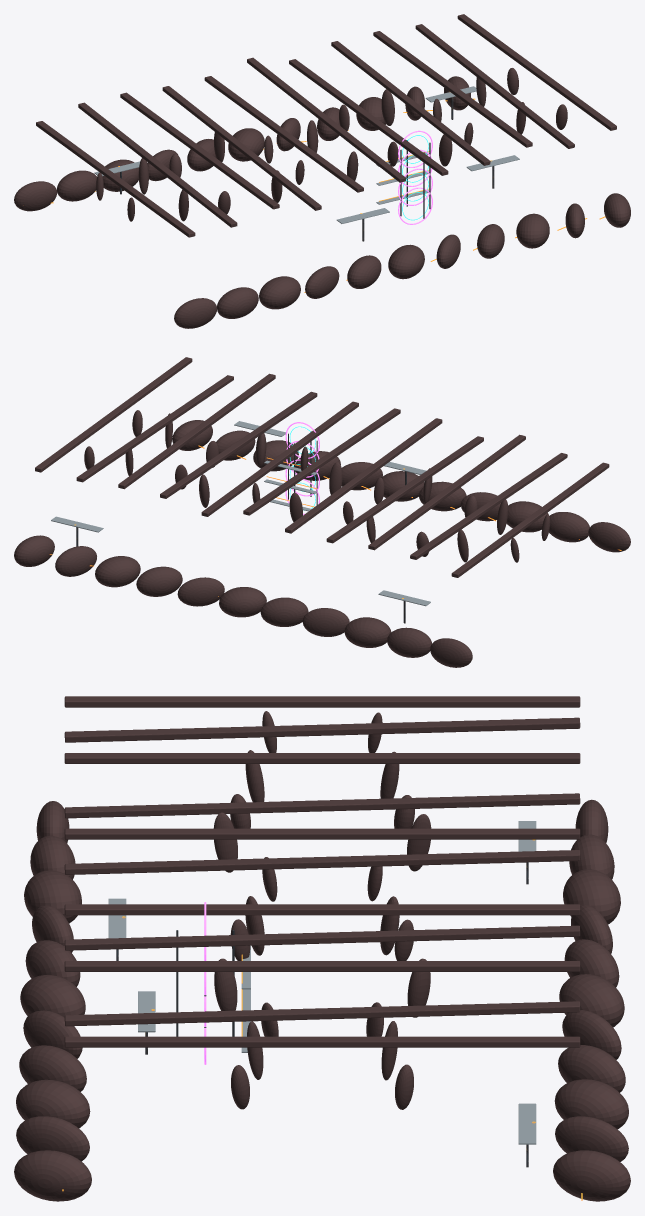
Rendered from resonance_cavern_shell.glb.
The picture shows the model from 3 angles, top to bottom: view 1: azimuth 30°, elevation 25°; view 2: azimuth 150°, elevation 25°; view 3: azimuth 270°, elevation 25°; orthographic projection. The views are drawn at different scales.
Parts seen in each view (by area): view 1: CavernRoof/Rib_3, CavernRoof/Rib_1, CavernRoof/Rib_9, CavernRoof/Rib_7, CavernRoof/Rib_5, CavernRoof/Rib_2, CavernRoof/Rib_0, CavernRoof/Rib_8, CavernRoof/Rib_4, CavernRoof/Rib_6, CavernRoof/Rib_10, CavernWall/1/2 (+19 smaller); view 2: CavernRoof/Rib_0, CavernRoof/Rib_8, CavernRoof/Rib_2, CavernRoof/Rib_4, CavernRoof/Rib_10, CavernRoof/Rib_6, CavernRoof/Rib_5, CavernRoof/Rib_9, CavernRoof/Rib_3, CavernRoof/Rib_7, CavernRoof/Rib_1, CavernWall/-1/5 (+21 smaller); view 3: CavernRoof/Rib_0, CavernRoof/Rib_4, CavernRoof/Rib_10, CavernRoof/Rib_6, CavernRoof/Rib_7, CavernRoof/Rib_9, CavernRoof/Rib_5, CavernRoof/Rib_1, CavernRoof/Rib_3, CavernRoof/Rib_2, CavernRoof/Rib_8, CavernWall/1/10 (+25 smaller).
Part boxes in pixels (bbox=[...]): CavernRoof/Rib_3: bbox=[162, 86, 321, 210]; CavernRoof/Rib_1: bbox=[78, 102, 237, 227]; CavernRoof/Rib_9: bbox=[415, 24, 574, 148]; CavernRoof/Rib_7: bbox=[331, 41, 490, 165]; CavernRoof/Rib_5: bbox=[247, 57, 405, 182]; CavernRoof/Rib_2: bbox=[120, 92, 279, 209]; CavernRoof/Rib_0: bbox=[36, 121, 195, 237]; CavernRoof/Rib_8: bbox=[373, 31, 532, 147]; CavernRoof/Rib_4: bbox=[204, 76, 363, 192]; CavernRoof/Rib_6: bbox=[289, 59, 448, 175]; CavernRoof/Rib_10: bbox=[457, 14, 616, 130]; CavernWall/1/2: bbox=[259, 276, 300, 309]; CavernRoof/Rib_0: bbox=[451, 462, 609, 577]; CavernRoof/Rib_8: bbox=[118, 373, 275, 489]; CavernRoof/Rib_2: bbox=[368, 434, 525, 550]; CavernRoof/Rib_4: bbox=[285, 418, 442, 533]; CavernRoof/Rib_10: bbox=[35, 357, 192, 472]; CavernRoof/Rib_6: bbox=[201, 401, 358, 516]; CavernRoof/Rib_5: bbox=[243, 408, 400, 515]; CavernRoof/Rib_9: bbox=[76, 375, 233, 482]; CavernRoof/Rib_3: bbox=[326, 436, 483, 543]; CavernRoof/Rib_7: bbox=[160, 391, 317, 498]; CavernRoof/Rib_1: bbox=[410, 453, 567, 559]; CavernWall/-1/5: bbox=[219, 587, 266, 617]; CavernRoof/Rib_0: bbox=[64, 696, 580, 707]; CavernRoof/Rib_4: bbox=[64, 828, 580, 839]; CavernRoof/Rib_10: bbox=[64, 1036, 580, 1047]; CavernRoof/Rib_6: bbox=[64, 904, 580, 915]; CavernRoof/Rib_7: bbox=[64, 925, 580, 950]; CavernRoof/Rib_9: bbox=[64, 1001, 580, 1026]; CavernRoof/Rib_5: bbox=[64, 850, 580, 874]; CavernRoof/Rib_1: bbox=[64, 717, 580, 742]; CavernRoof/Rib_3: bbox=[64, 793, 580, 818]; CavernRoof/Rib_2: bbox=[64, 753, 580, 763]; CavernRoof/Rib_8: bbox=[64, 961, 580, 971]; CavernWall/1/10: bbox=[14, 1150, 91, 1201].
Bounding box in the file's own units: 152 × 32.71 × 105.
7 materials, 1 textured.
